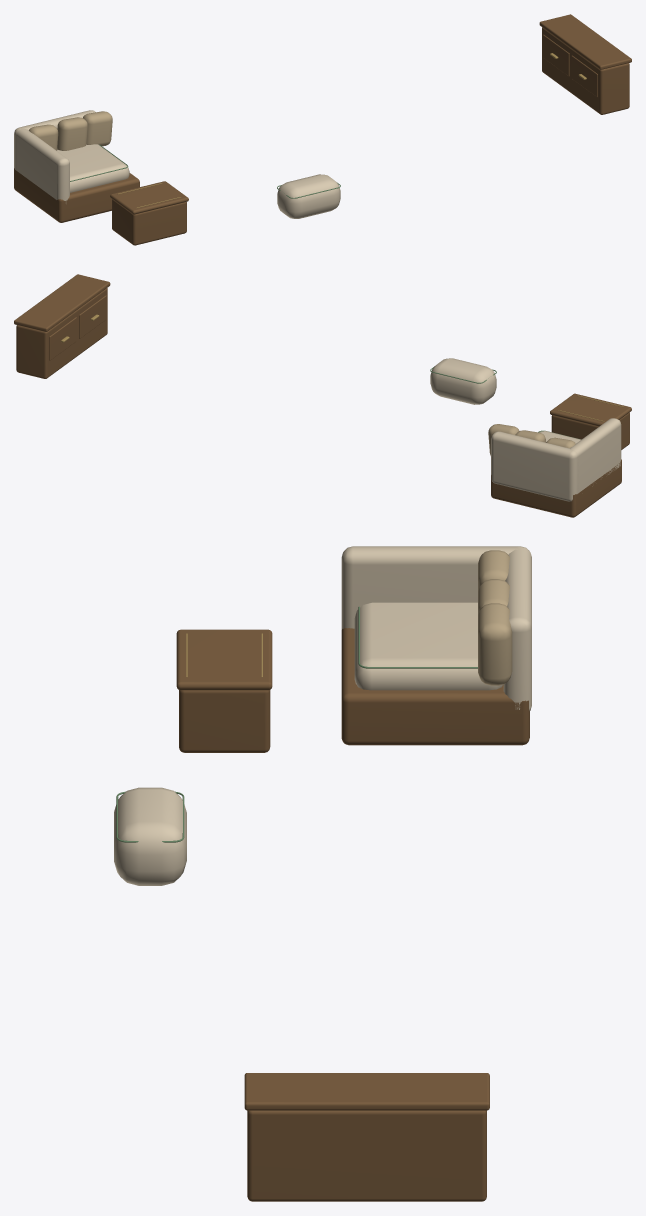
The model's file is terrace_furniture.glb.
The picture shows the model from 3 angles, top to bottom: view 1: azimuth 30°, elevation 25°; view 2: azimuth 150°, elevation 25°; view 3: azimuth 270°, elevation 25°; orthographic projection. The views are drawn at different scales.
Parts seen in each view (by area): view 1: Terrace Oiled walnut, Terrace Terrace cream linen, Terrace Warm linen; view 2: Terrace Oiled walnut, Terrace Terrace cream linen, Terrace Warm linen; view 3: Terrace Oiled walnut, Terrace Terrace cream linen, Terrace Warm linen.
Part boxes in pixels (left/top/right/bottom): Terrace Oiled walnut: left=14, top=14, right=631, bottom=245; Terrace Terrace cream linen: left=14, top=110, right=340, bottom=218; Terrace Warm linen: left=29, top=111, right=112, bottom=150; Terrace Oiled walnut: left=14, top=274, right=631, bottom=517; Terrace Terrace cream linen: left=430, top=358, right=621, bottom=501; Terrace Warm linen: left=488, top=424, right=575, bottom=455; Terrace Oiled walnut: left=176, top=628, right=529, bottom=1201; Terrace Terrace cream linen: left=114, top=546, right=531, bottom=885; Terrace Warm linen: left=478, top=550, right=512, bottom=685.
Size of the model in its own units: 11.1 by 1.29 by 3.67.
